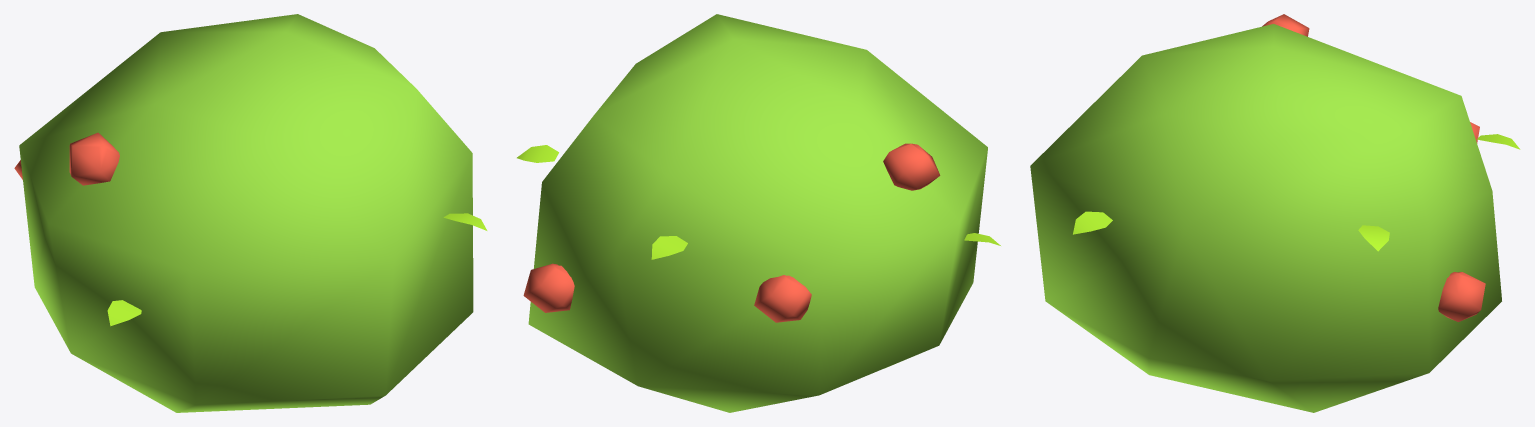
Rendered from bush.glb.
3 renders of one model, left to right at view 1: azimuth 30°, elevation 25°; view 2: azimuth 150°, elevation 25°; view 3: azimuth 270°, elevation 25°, orthographic. The views are drawn at different scales.
Parts seen in each view (by area): view 1: Sphere, Sphere.002; view 2: Sphere, Sphere.002; view 3: Sphere, Sphere.002.
Part boxes in pixels (x1,y1,x2,y2): Sphere: [19, 14, 487, 412]; Sphere.002: [14, 132, 119, 185]; Sphere: [517, 14, 1000, 412]; Sphere.002: [523, 143, 940, 322]; Sphere: [1030, 24, 1520, 412]; Sphere.002: [1262, 14, 1485, 321].
Bounding box in the file's own units: 0.456 × 0.3504 × 0.4886.
